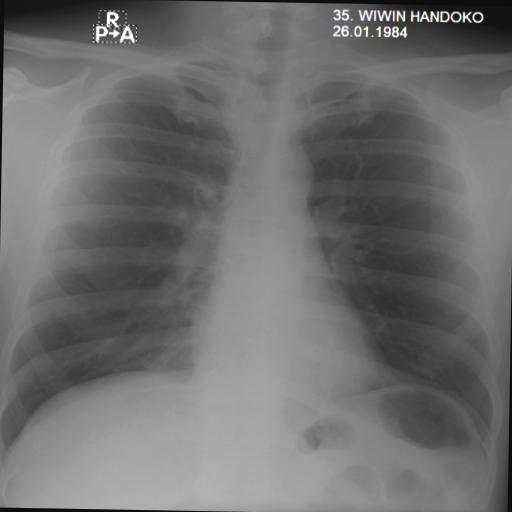normal: (1, 30, 511, 473)
